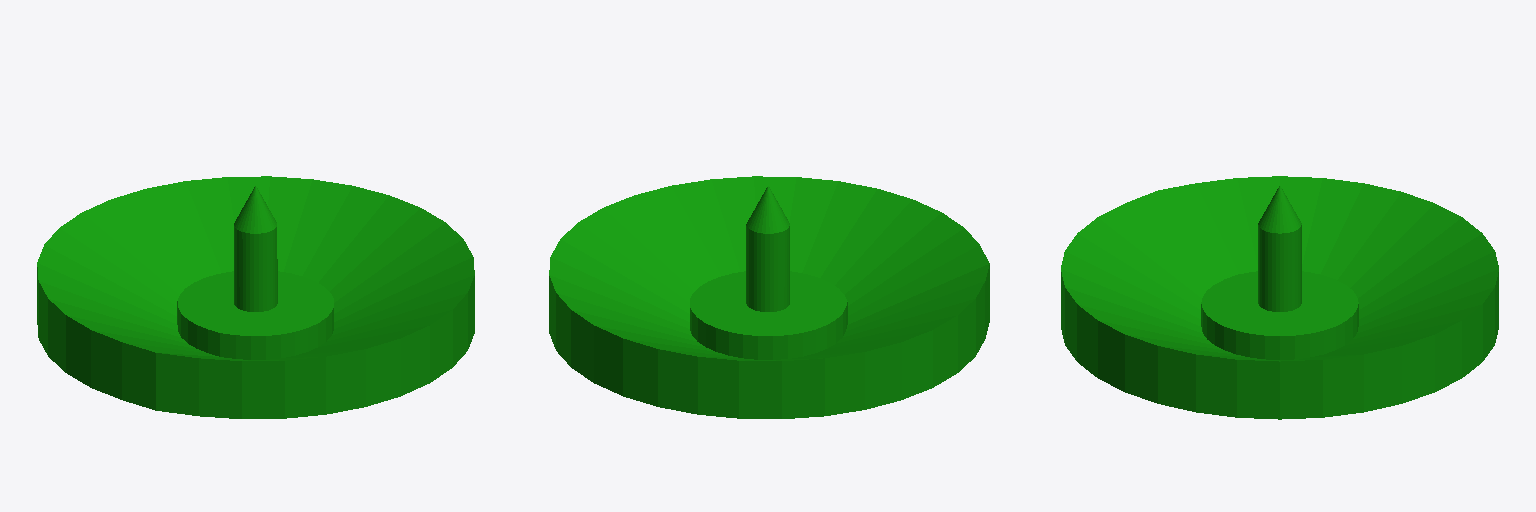
File: stuff.obj
3 renders of one model, left to right at view 1: azimuth 30°, elevation 25°; view 2: azimuth 150°, elevation 25°; view 3: azimuth 270°, elevation 25°, orthographic.
Parts seen in each view (by area): view 1: Cone; view 2: Cone; view 3: Cone.
Part boxes in pixels (x1,y1,x2,y2): Cone: (37, 176, 474, 418); Cone: (549, 176, 989, 418); Cone: (1061, 176, 1498, 419).
Bounding box in the file's own units: 20.17 × 7.19 × 20.17.